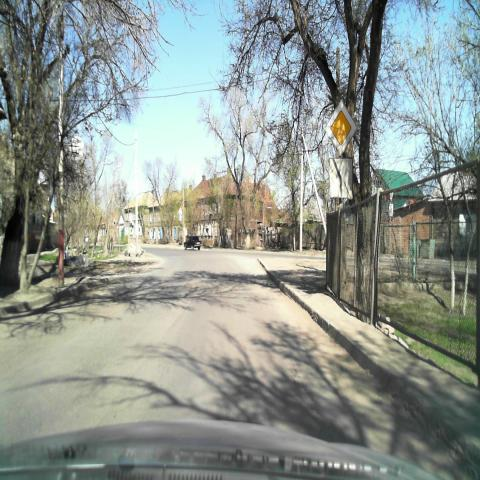2_1: (325, 101, 357, 155)
8_13: (329, 156, 353, 198)
